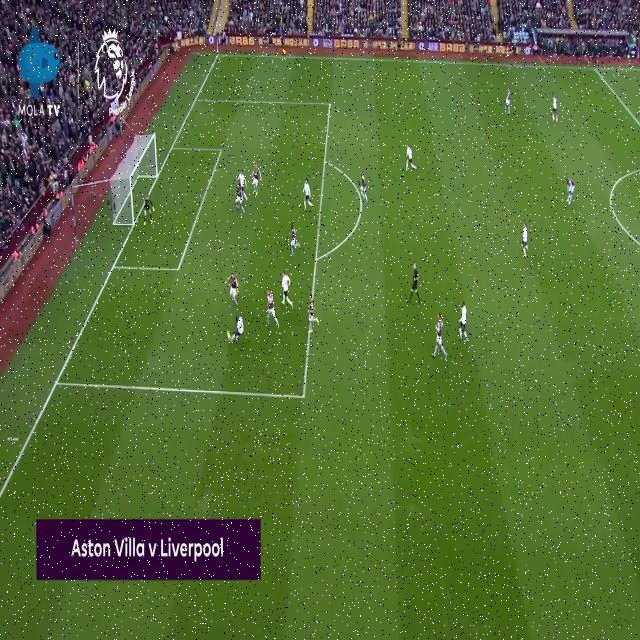Ball: (227, 328, 230, 340)
GoalKeeper: (142, 193, 154, 227)
Referee: (407, 261, 421, 303), (280, 32, 287, 54)
TEAM 1: (431, 310, 448, 361), (264, 285, 280, 330), (226, 270, 240, 308), (307, 292, 319, 334), (356, 166, 369, 204), (288, 220, 301, 258), (250, 162, 263, 196), (233, 180, 246, 214), (566, 174, 576, 204), (504, 85, 511, 115)
TEAM 2: (280, 268, 295, 310), (230, 312, 246, 346), (457, 298, 469, 343), (301, 176, 315, 212), (236, 168, 249, 203), (404, 142, 418, 172), (520, 220, 530, 258), (552, 94, 560, 124)
